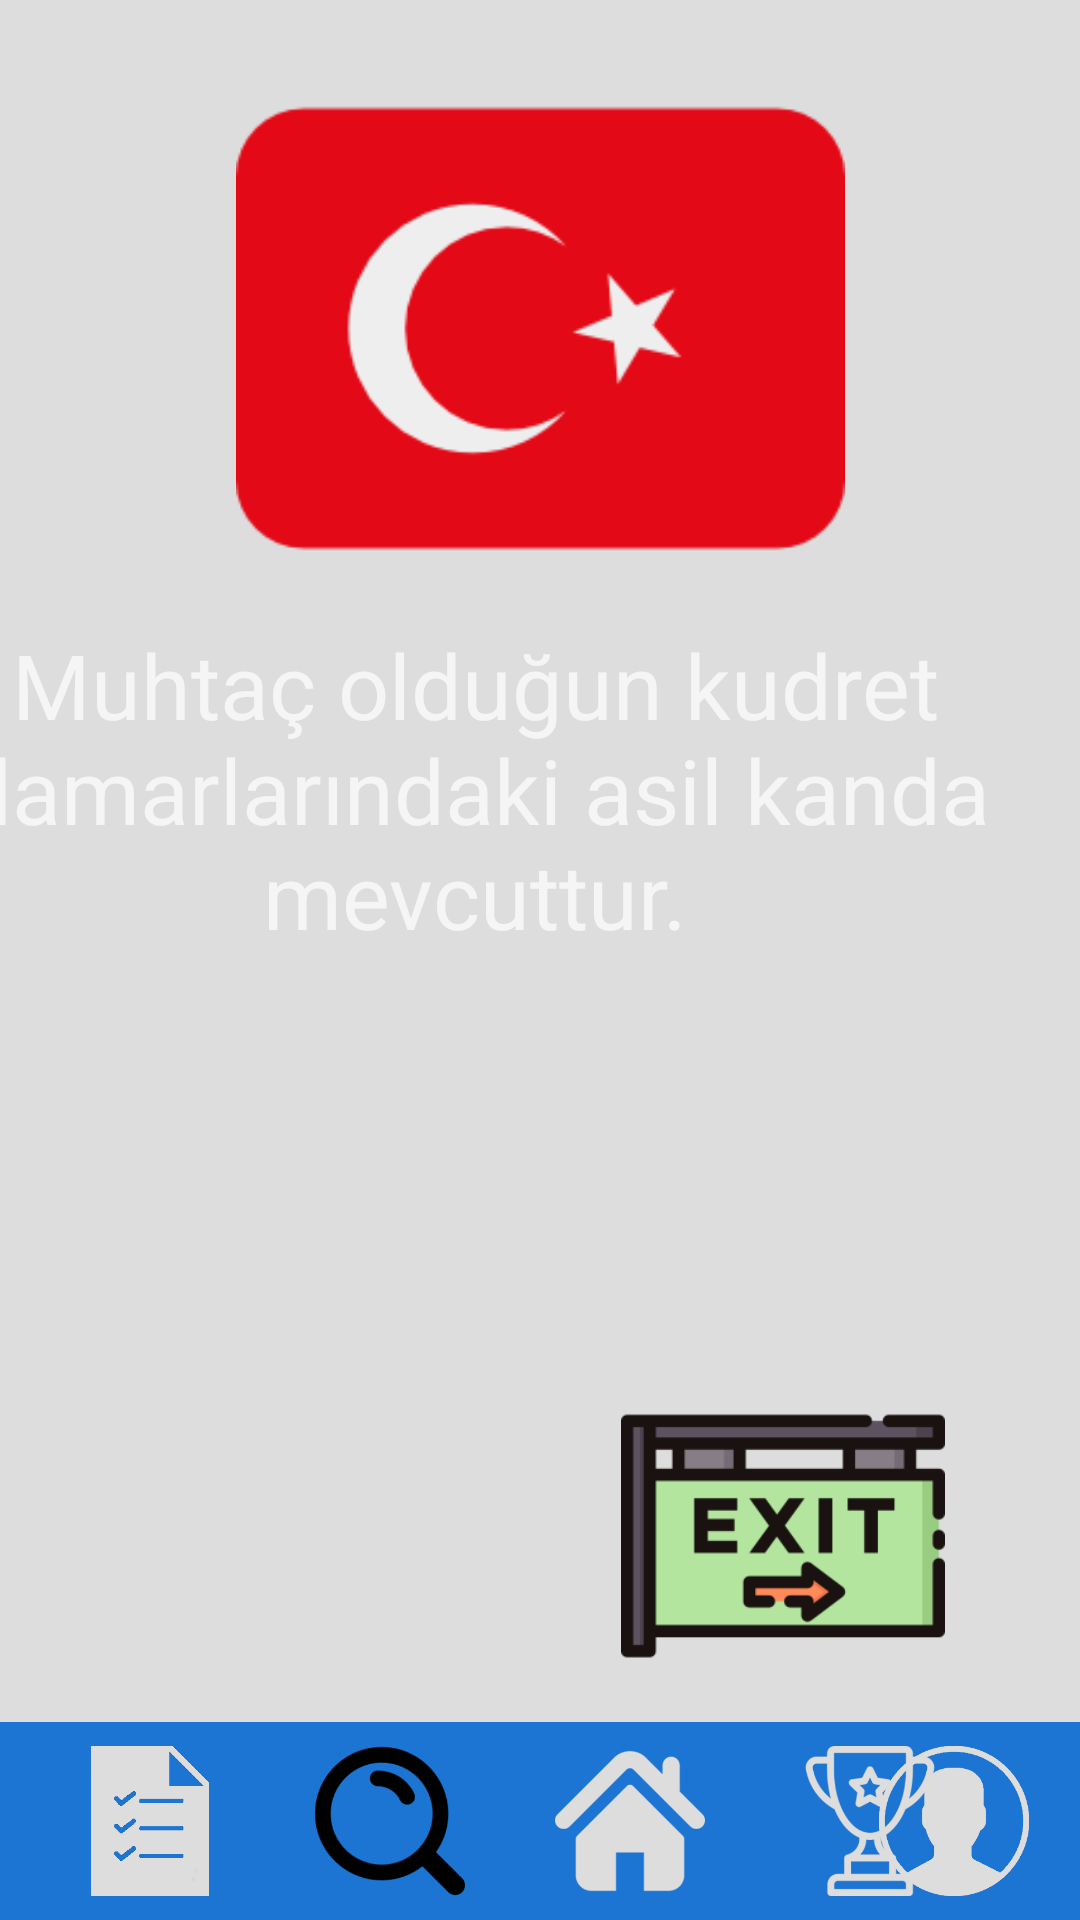

Icon bounding boxes for this 1080px×1920px phone screenshot, format (x1, y1, x2, y2):
hom eico nsilhouette: (555, 1751, 705, 1891)
list: (91, 1746, 209, 1896)
magnifying glass finder: (315, 1746, 465, 1896)
